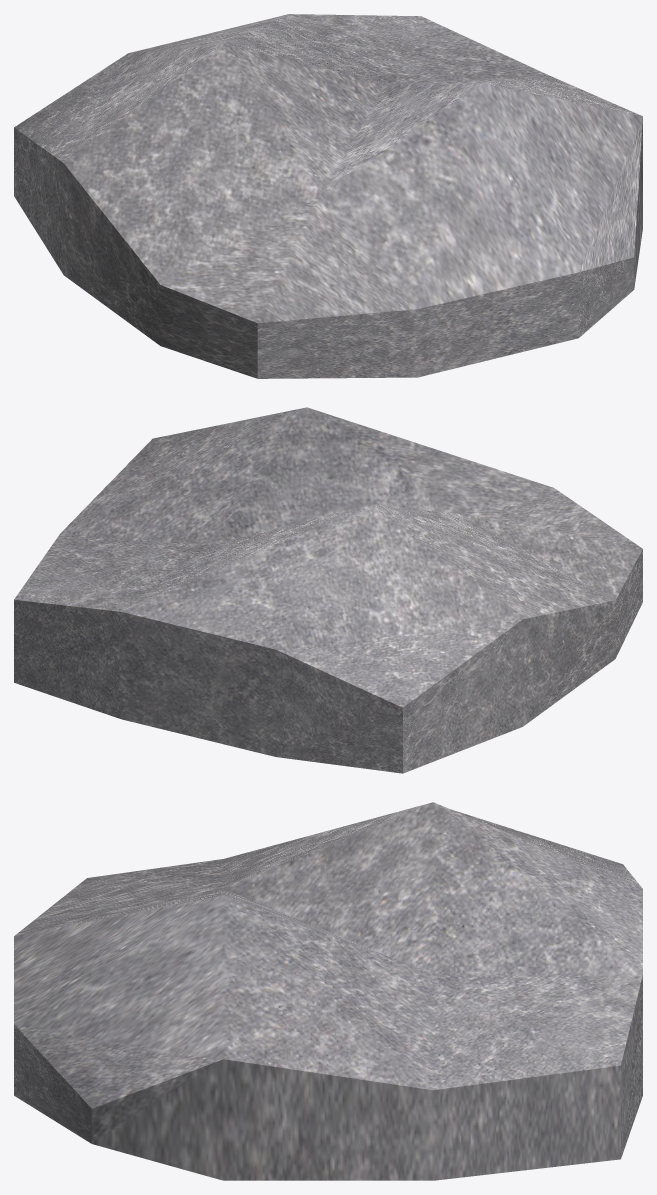
The model's file is Rock1.FBX.
The picture shows the model from 3 angles, top to bottom: view 1: azimuth 30°, elevation 25°; view 2: azimuth 150°, elevation 25°; view 3: azimuth 270°, elevation 25°; orthographic projection. The views are drawn at different scales.
Parts seen in each view (by area): view 1: Box001; view 2: Box001; view 3: Box001.
Part boxes in pixels (x1,y1,x2,y2): Box001: [14, 14, 642, 378]; Box001: [14, 407, 642, 773]; Box001: [14, 802, 642, 1180].
Bounding box in the file's own units: 61.1 × 63.58 × 23.23.
1 material, 1 textured.
